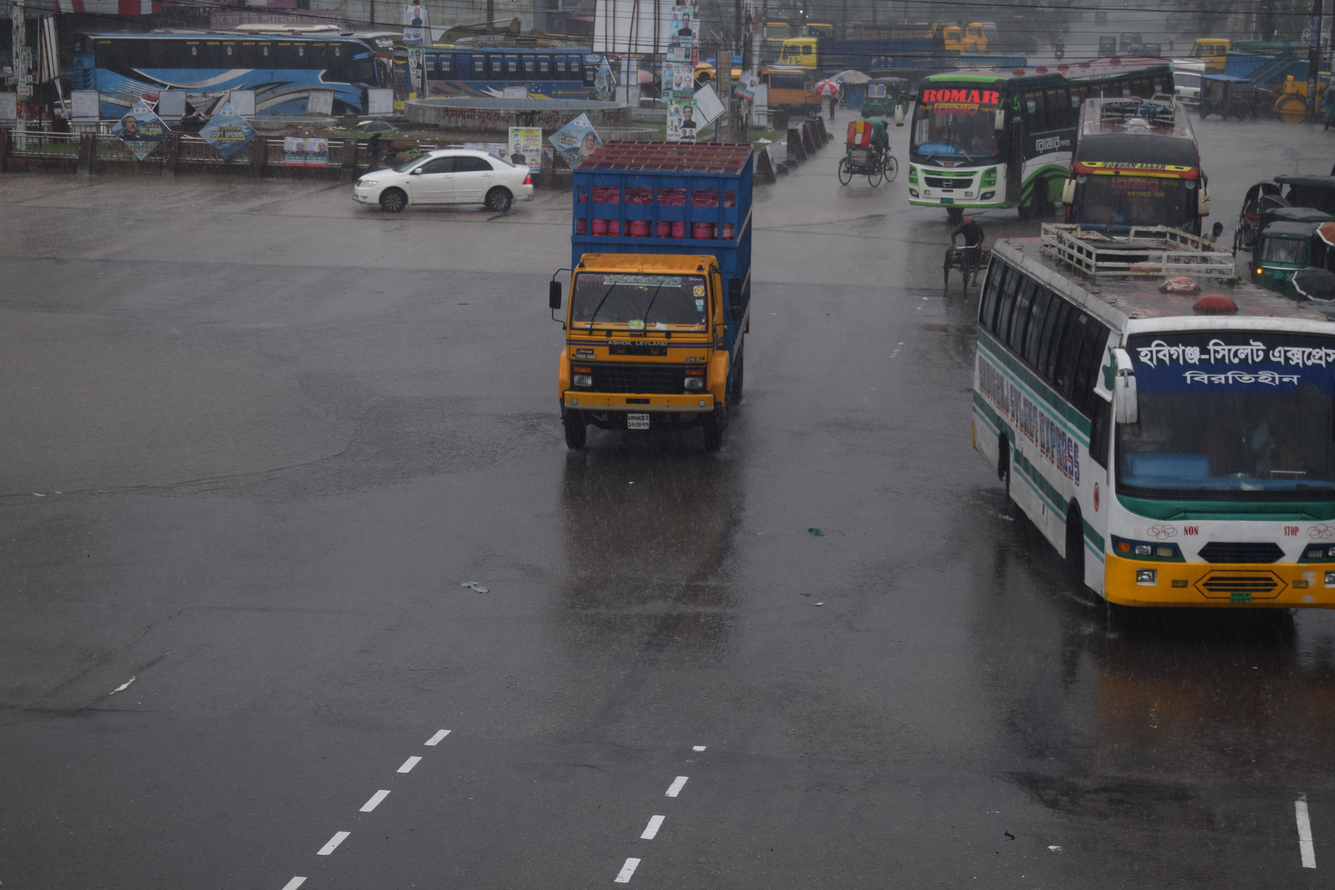Bus: (925, 202, 1335, 659), (28, 0, 416, 157), (855, 44, 1229, 196), (1035, 78, 1235, 263), (384, 24, 672, 139)
Car: (321, 129, 569, 241), (808, 96, 916, 200)
Truck: (524, 113, 816, 537), (712, 43, 821, 139)
